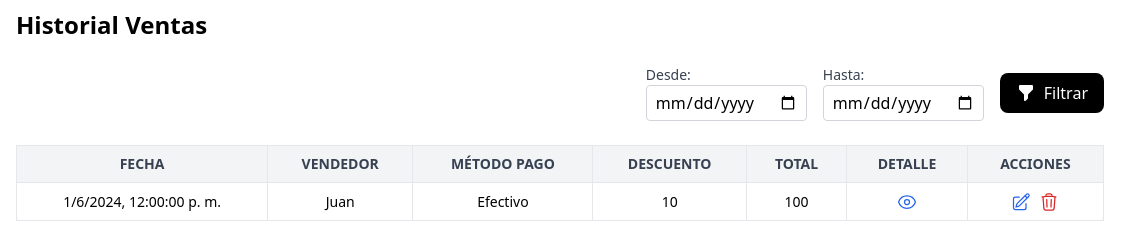
HistorialVentas › filtra por fecha correctamente
The width and height of the screenshot is (1121, 238).
Expected: the text "Juan" is shown, [268,182,413,221]
Type "2024-06-10" into the date field labelled "Desde:" at (726, 103), box [646,85,807,121]
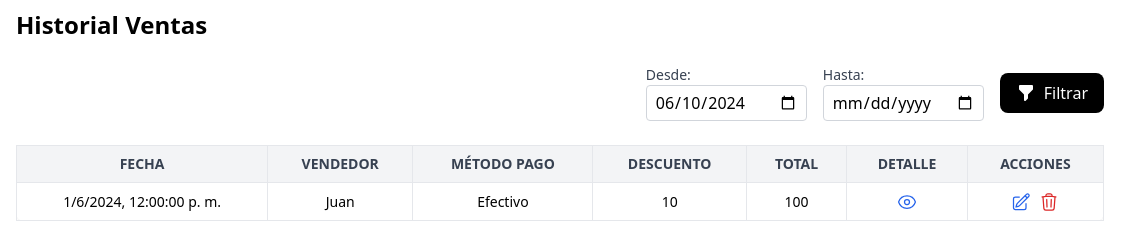
Type "2024-06-11" into the date field labelled "Hasta:" at (903, 103), box [823,85,984,121]
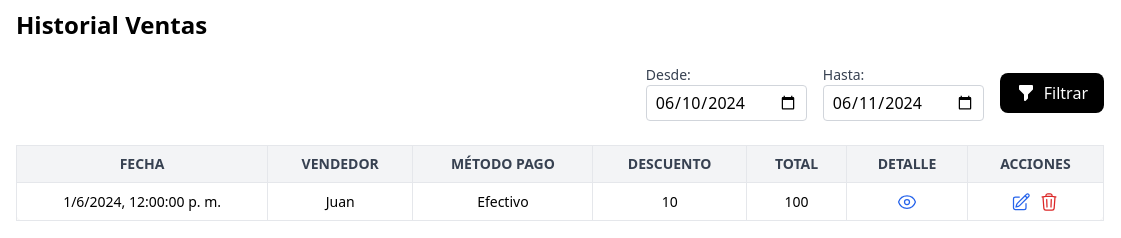
Click the button "Filtrar" at (1052, 93), box [1000,73,1104,113]
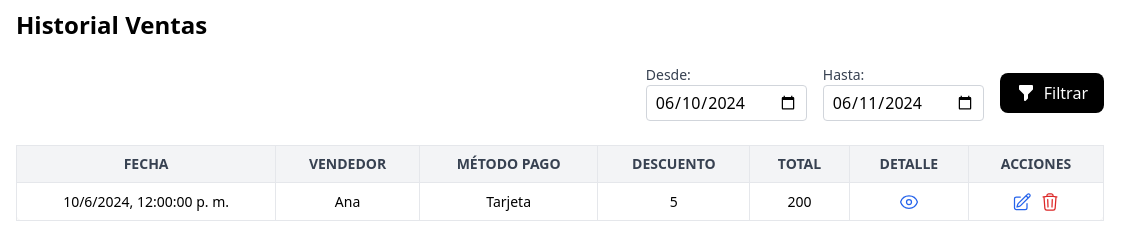
Expected: the text "Ana" is shown, [276,182,419,221]
Expected: the text "Tarjeta" is shown, [419,182,598,221]
Expected: the text "200" is shown, [750,182,849,221]
